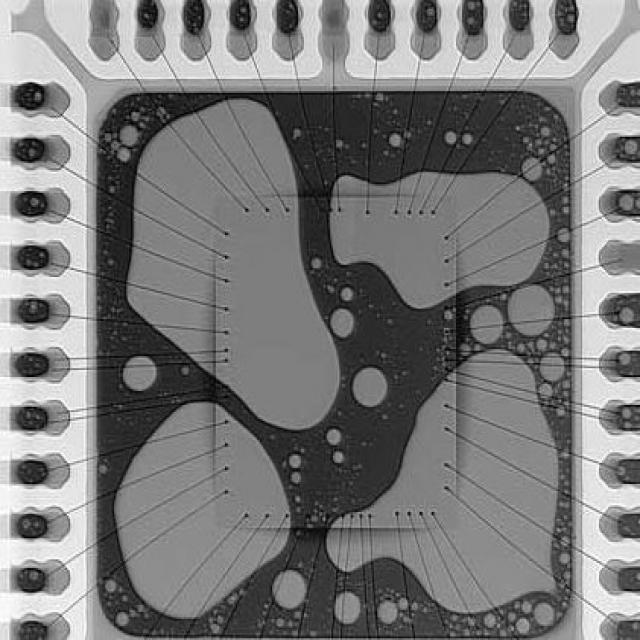component: (99, 91, 572, 637)
void: (128, 98, 341, 430), (327, 351, 559, 615), (114, 403, 290, 620), (330, 172, 552, 309), (509, 286, 556, 338), (272, 572, 309, 611), (353, 368, 389, 408), (471, 305, 505, 345), (123, 356, 157, 392), (334, 593, 362, 627), (541, 352, 567, 383), (330, 309, 356, 339), (377, 601, 400, 627), (523, 158, 544, 181), (538, 603, 556, 629), (119, 124, 140, 146), (517, 619, 532, 637), (389, 132, 404, 148), (289, 454, 303, 471), (328, 431, 342, 446), (117, 147, 131, 162), (103, 580, 117, 595), (541, 384, 555, 399), (485, 615, 499, 630), (462, 132, 476, 146), (445, 130, 458, 145), (116, 614, 129, 629), (157, 107, 170, 122), (333, 451, 345, 466), (559, 230, 572, 243), (342, 288, 354, 302), (461, 344, 473, 357), (290, 472, 301, 486), (523, 601, 534, 615), (538, 340, 549, 352), (558, 407, 569, 418), (561, 554, 572, 565), (400, 600, 409, 613), (312, 258, 322, 269), (210, 626, 220, 636), (445, 310, 455, 320), (99, 465, 108, 476), (543, 126, 552, 137), (181, 366, 190, 376), (277, 619, 286, 629), (549, 154, 558, 164), (336, 139, 345, 148), (509, 614, 518, 623), (375, 93, 385, 101), (293, 128, 300, 139)
